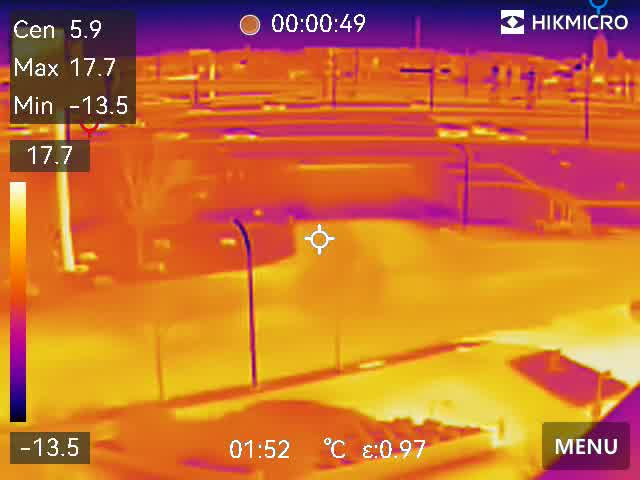vehicle: (219, 127, 261, 144), (434, 122, 469, 140), (495, 127, 529, 143), (149, 129, 190, 142), (470, 120, 499, 136), (263, 98, 290, 114), (185, 104, 215, 117)
